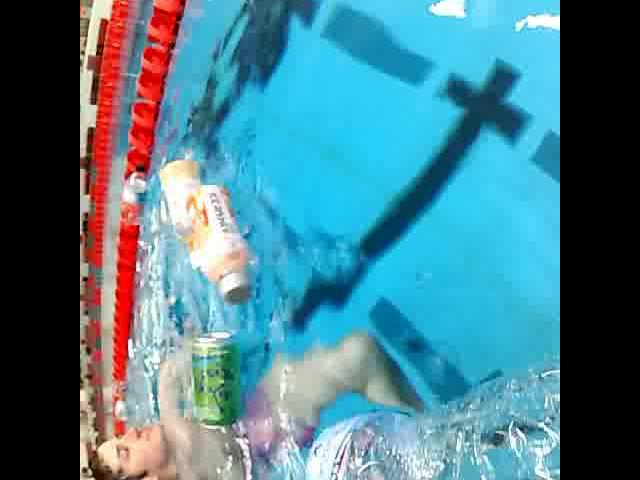Bottle: (293, 345, 560, 480), (182, 180, 258, 310), (154, 154, 222, 276)
Can: (186, 318, 242, 440)
